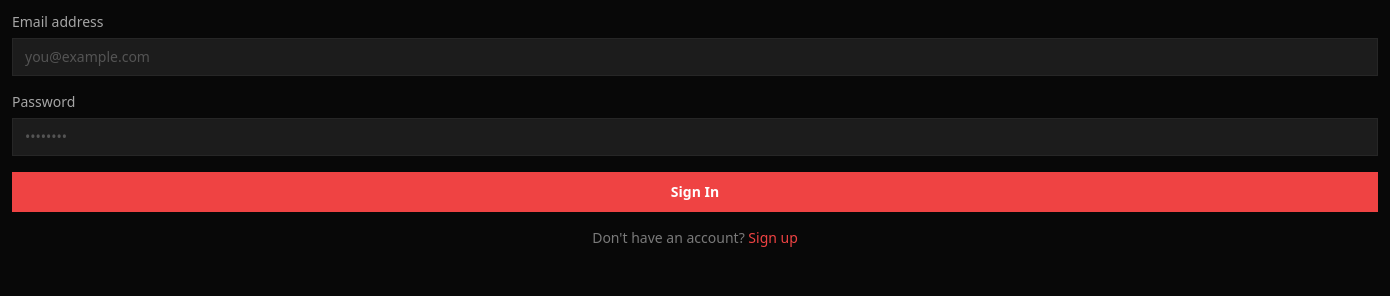
LoginPage › shows error message if supabase returns an error
This screenshot has width=1390, height=296.
Type "bad@test.com" into the field labelled "Email address" at coordinates (695, 57), box [12, 38, 1378, 76]
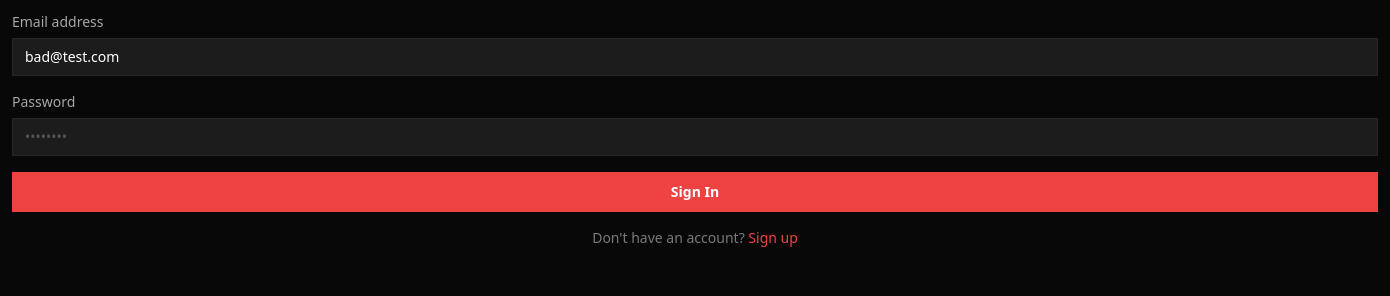
Type "wrong" into the password field labelled "Password" at coordinates (695, 137), box [12, 118, 1378, 156]
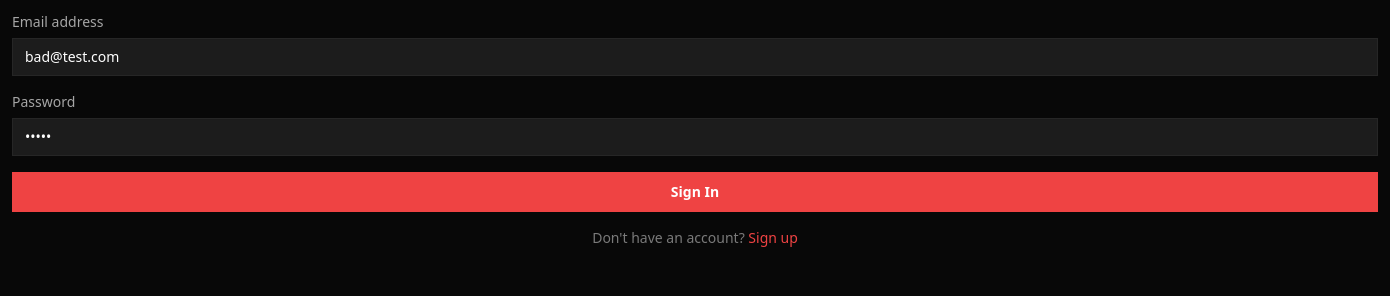
Click the button "Sign In" at coordinates (695, 192), box [12, 172, 1378, 212]
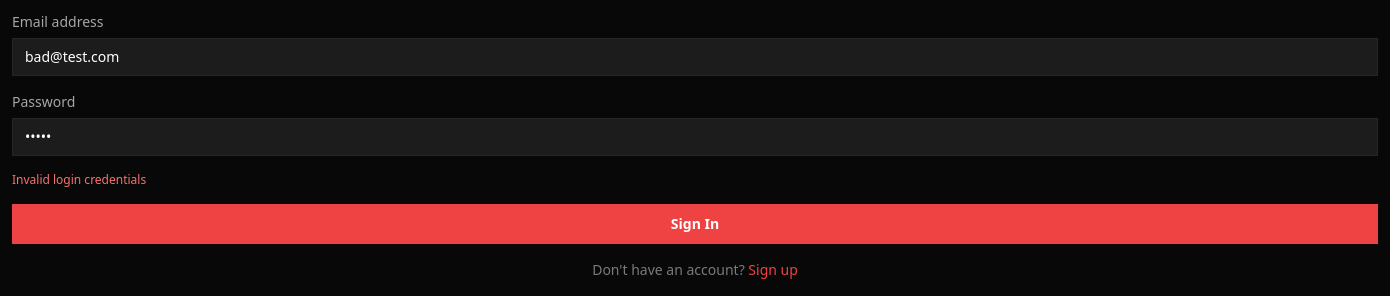
Result: the text "Invalid login credentials" is shown at [12, 171, 146, 188]
